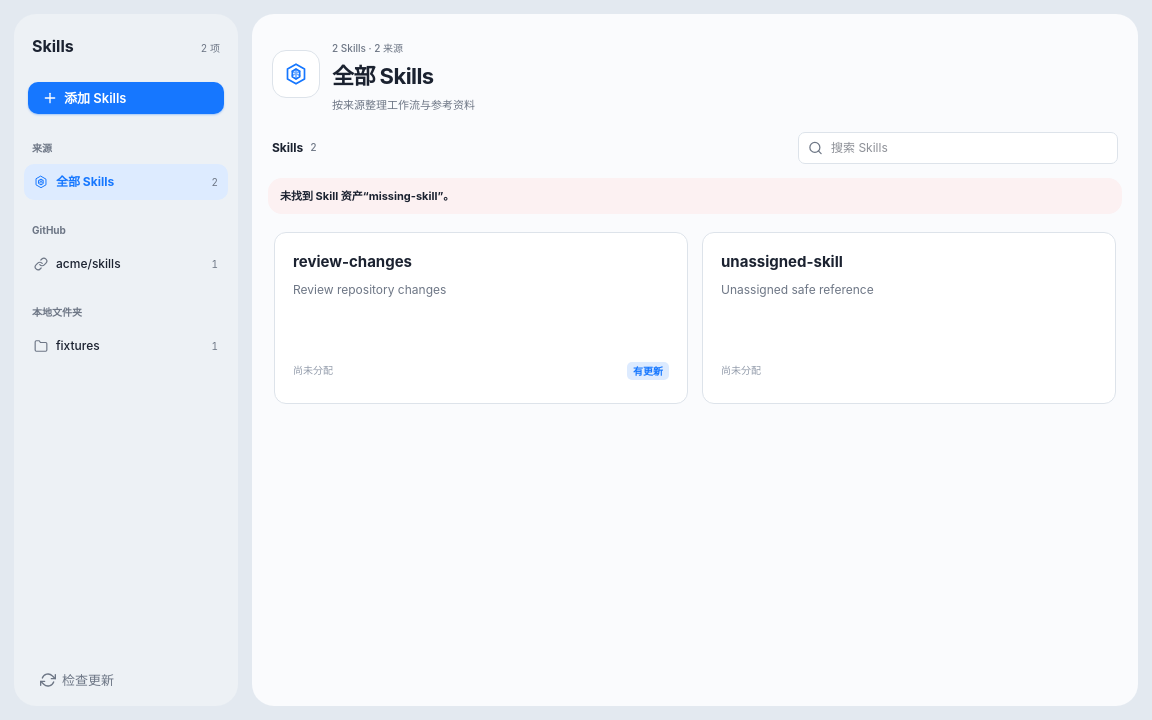
Scenario: SkillsView › clears an unavailable navigation notice after a manual Skill selection
Expected: the text "未找到 Skill 资产“missing-skill”。" is shown, [280,188,454,204]
Click the button "review-changes Review repository changes" at (352, 262), box [275,233,687,348]
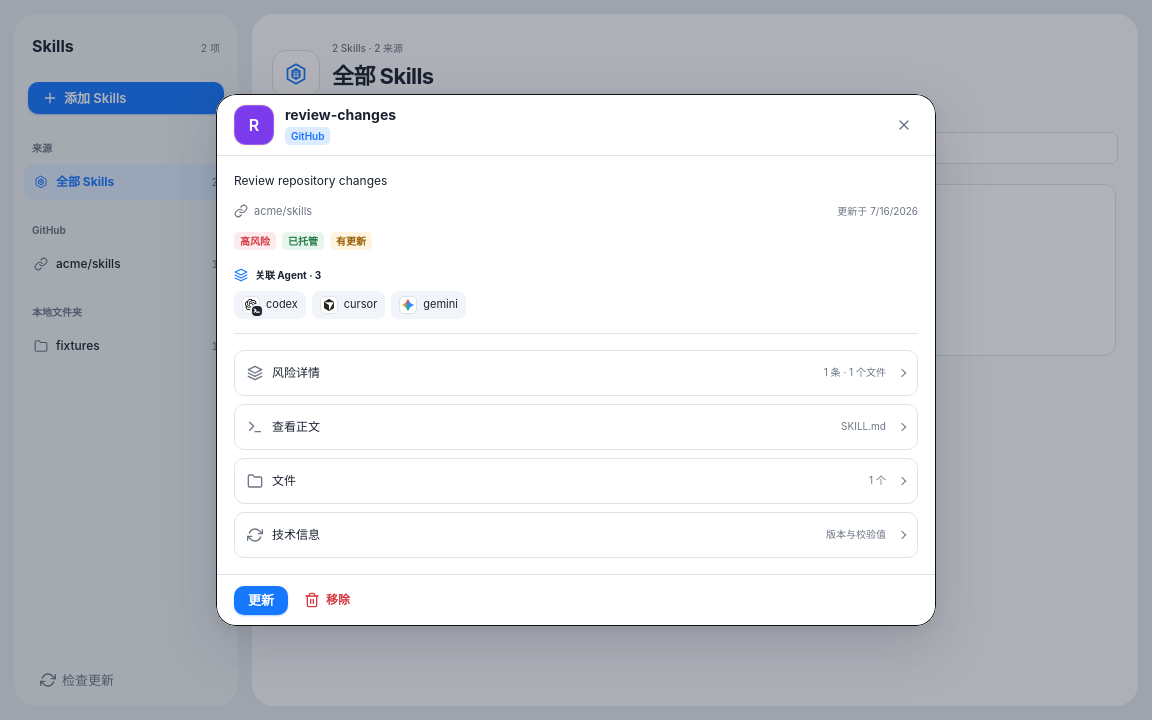
Now the element named "review-changes 详情" is shown, box [216,94,936,626]
Now the text "未找到 Skill 资产“missing-skill”。" is gone
